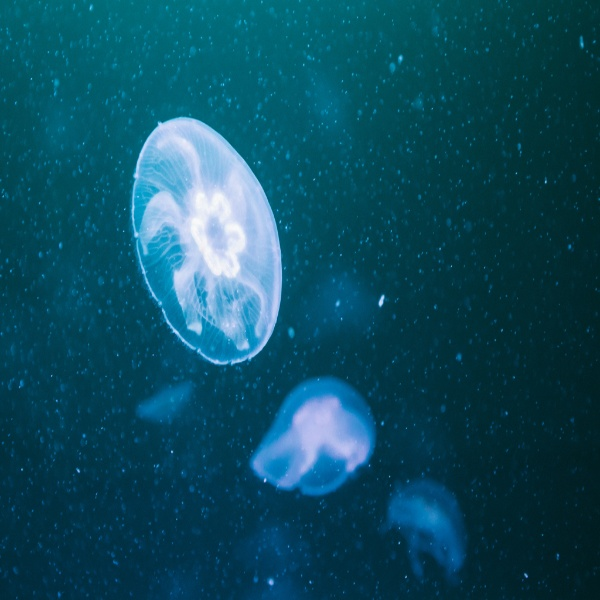Jellyfish: (130, 114, 283, 366), (245, 373, 377, 493), (374, 484, 469, 575)
